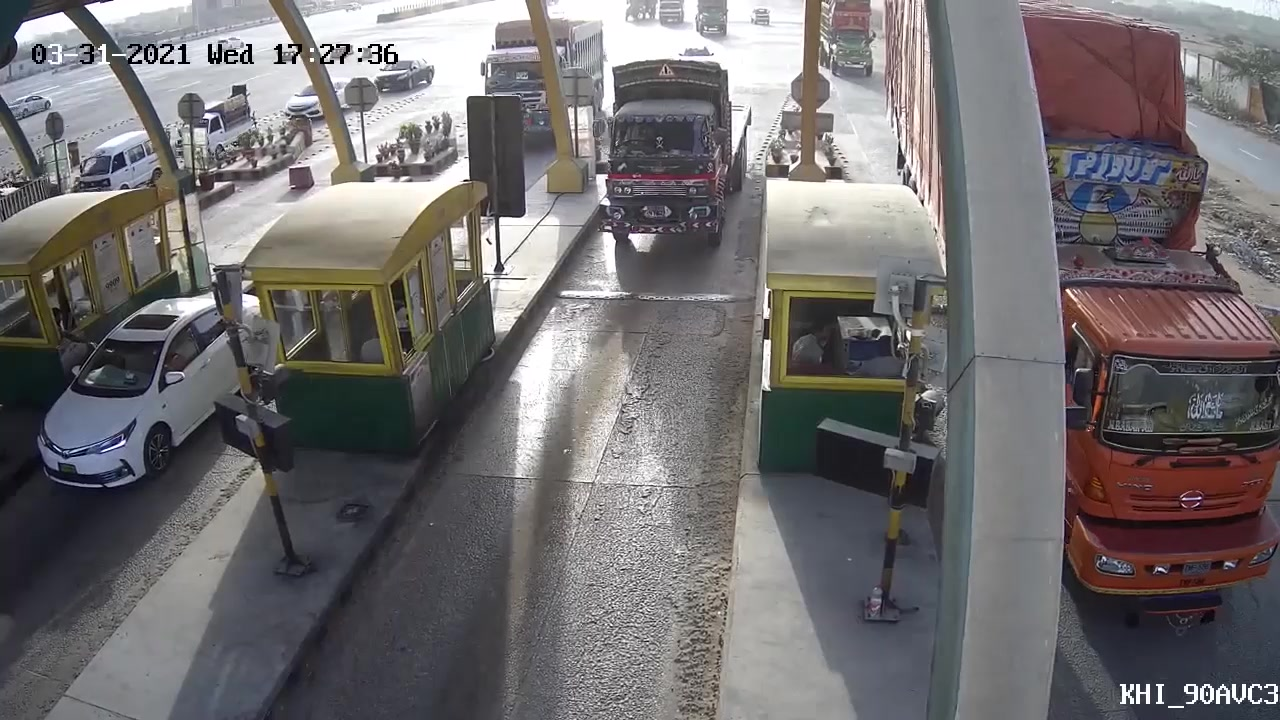F5: (592, 44, 759, 253)
